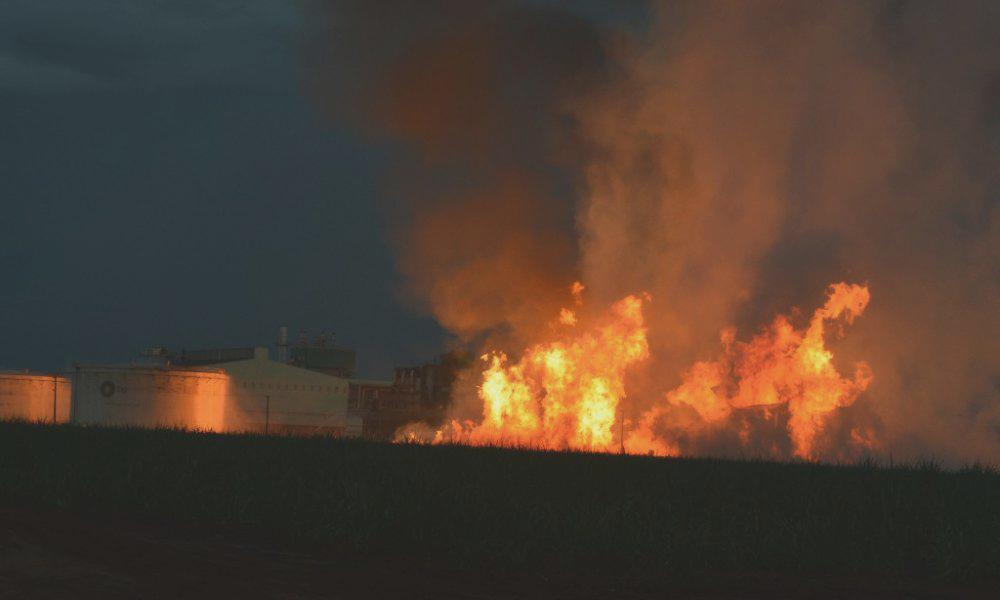Fire: (406, 267, 878, 460)
